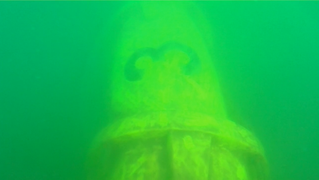3: (123, 40, 201, 82)
pipe: (85, 1, 270, 179)
